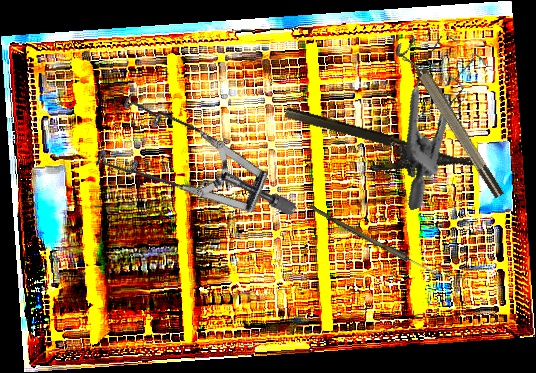Fixation Ring: (391, 35, 508, 205)
Needle Holder: (276, 104, 480, 199)
Speculum: (74, 52, 298, 289), (366, 26, 519, 211)
Surgical Spoon: (307, 205, 446, 280)
